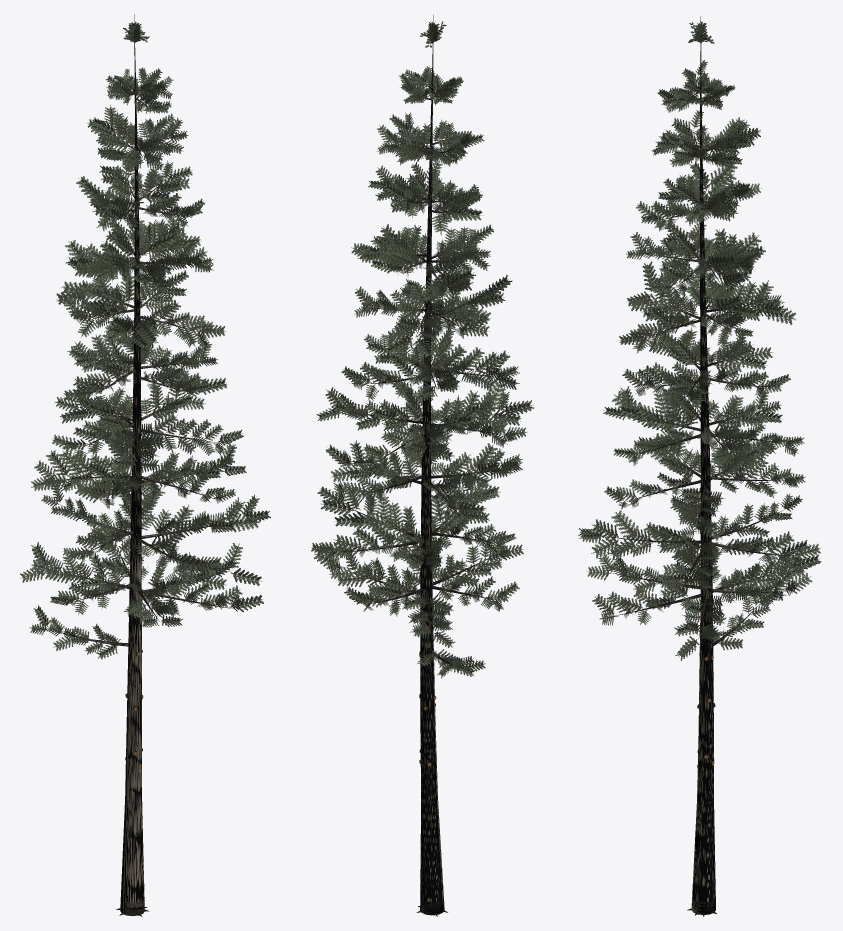
Rendered from Sitka_Young_02_MediumPruned_Recent_LOD0.fbx.
3 views of the same model, side by side, from view 1: azimuth 30°, elevation 25°; view 2: azimuth 150°, elevation 25°; view 3: azimuth 270°, elevation 25° (orthographic).
Visible parts, largest first — view 1: Sitka_Young_02_MediumPruned_Recent_LOD0; view 2: Sitka_Young_02_MediumPruned_Recent_LOD0; view 3: Sitka_Young_02_MediumPruned_Recent_LOD0.
Part boxes in pixels (x1,y1,x2,y2): Sitka_Young_02_MediumPruned_Recent_LOD0: [20, 14, 270, 916]; Sitka_Young_02_MediumPruned_Recent_LOD0: [311, 15, 534, 916]; Sitka_Young_02_MediumPruned_Recent_LOD0: [578, 16, 821, 916].
Bounding box in the file's own units: 263 × 1050 × 273.
Materials: 3 (3 with a texture image).
